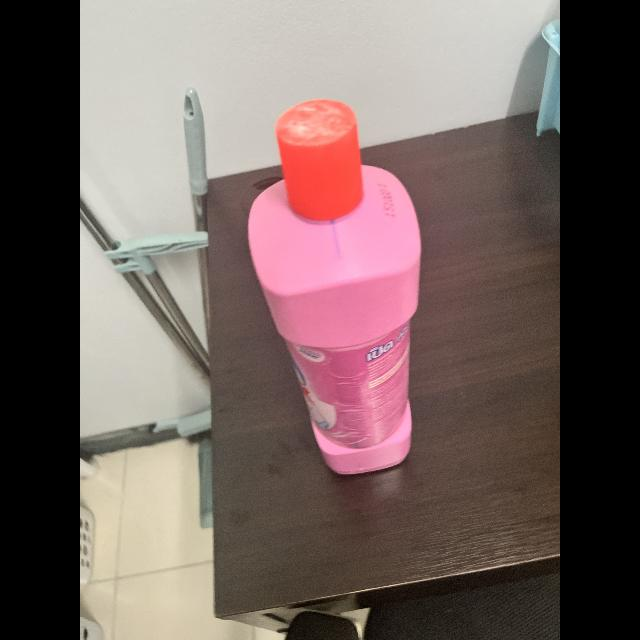chemical_plastic_bottle: (240, 101, 424, 486)
